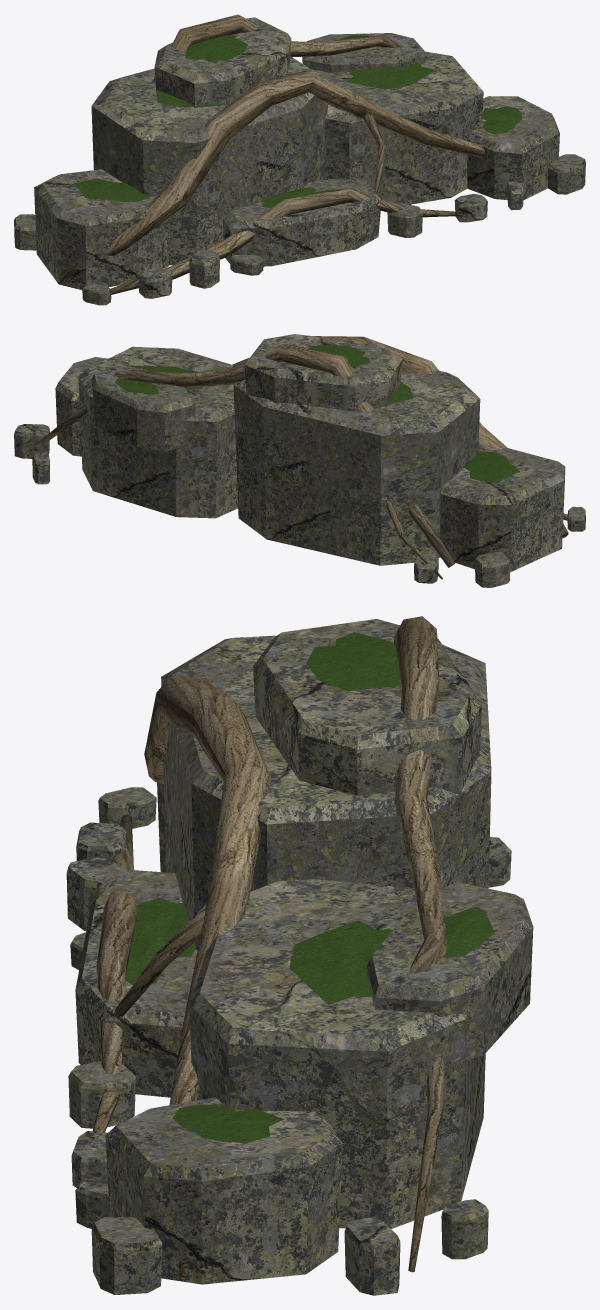
Rendered from v3_root_rubble.glb.
The picture shows the model from 3 angles, top to bottom: view 1: azimuth 30°, elevation 25°; view 2: azimuth 150°, elevation 25°; view 3: azimuth 270°, elevation 25°; orthographic projection. The views are drawn at different scales.
Visible parts, largest first — view 1: v3_wet_stone_surface, v3_wet_root_surface, v3_deep_moss_surface; view 2: v3_wet_stone_surface, v3_wet_root_surface, v3_deep_moss_surface; view 3: v3_wet_stone_surface, v3_wet_root_surface, v3_deep_moss_surface.
Boxes of the visible parts, bbox=[...] form: v3_wet_stone_surface: bbox=[14, 17, 585, 305]; v3_wet_root_surface: bbox=[61, 14, 485, 294]; v3_deep_moss_surface: bbox=[73, 35, 521, 208]; v3_wet_stone_surface: bbox=[14, 334, 585, 587]; v3_wet_root_surface: bbox=[22, 336, 568, 579]; v3_deep_moss_surface: bbox=[115, 344, 519, 483]; v3_wet_stone_surface: bbox=[66, 619, 533, 1295]; v3_wet_root_surface: bbox=[81, 616, 491, 1279]; v3_deep_moss_surface: bbox=[125, 632, 494, 1142].
Bounding box in the file's own units: 2.39 × 0.8189 × 0.9656.
Materials: 3 (3 with a texture image).
